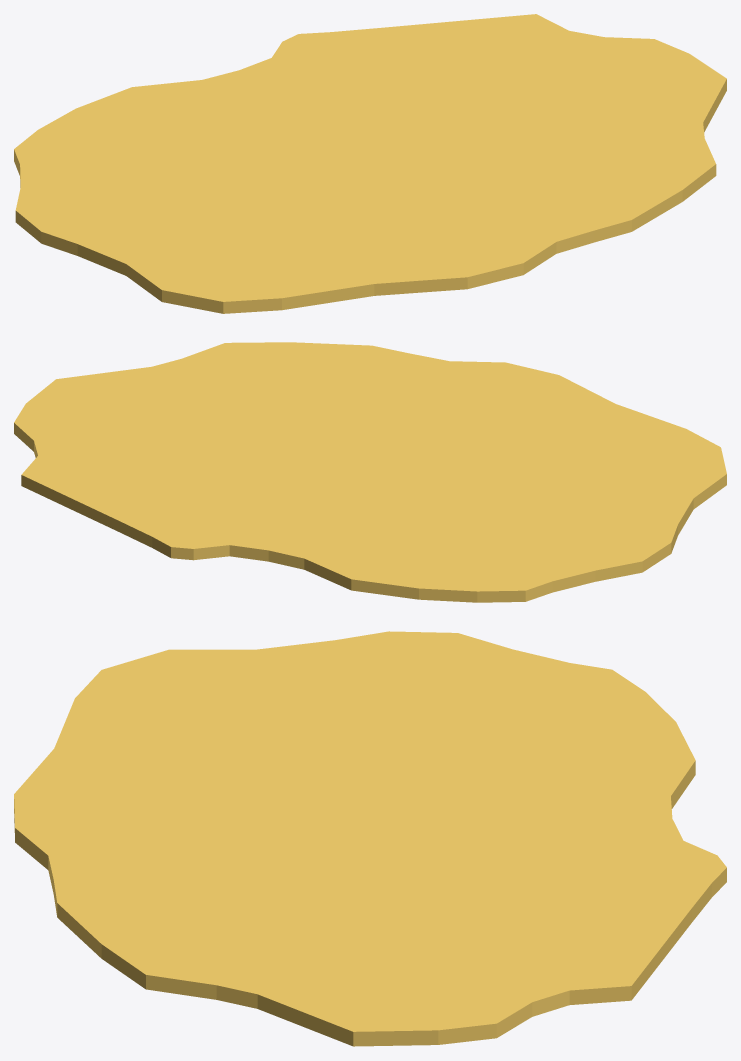
File: Sand 15.FBX
3 views of the same model, one above another, from view 1: azimuth 30°, elevation 25°; view 2: azimuth 150°, elevation 25°; view 3: azimuth 270°, elevation 25° (orthographic). The views are drawn at different scales.
Visible parts, largest first — view 1: Plane001; view 2: Plane001; view 3: Plane001.
Part boxes in pixels (x1,y1,x2,y2): Plane001: [14, 14, 726, 313]; Plane001: [14, 342, 726, 602]; Plane001: [14, 631, 726, 1046].
Bounding box in the file's own units: 146 × 2.49 × 110.
